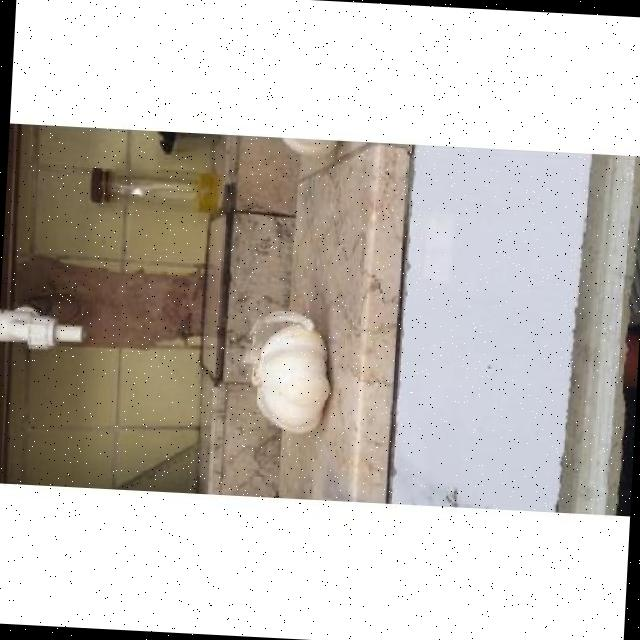garlic: (248, 310, 330, 431), (282, 137, 338, 156)
